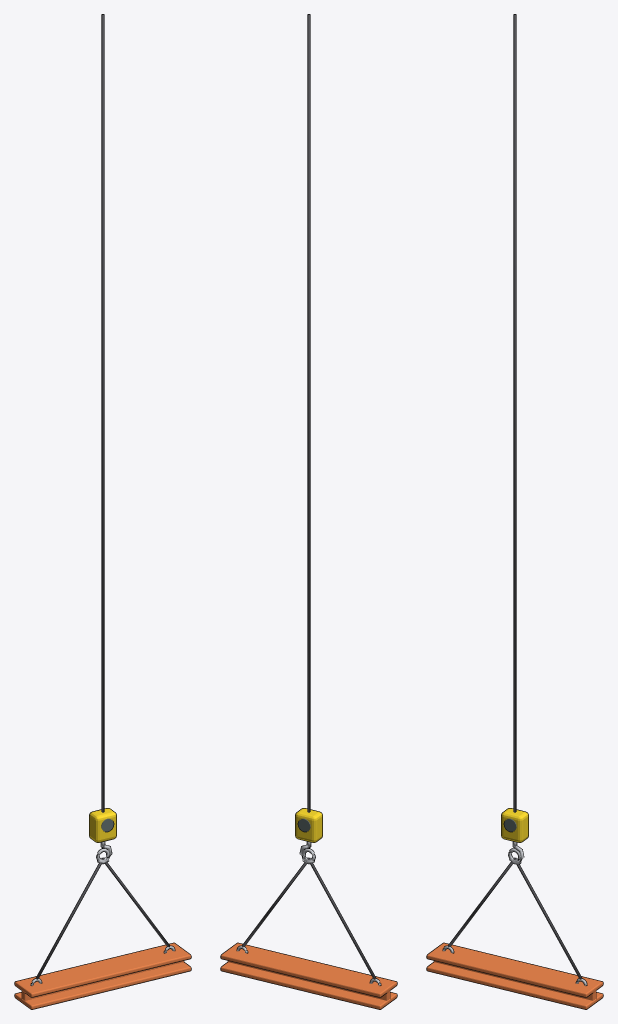
File: Beam_Medium.fbx
3 renders of one model, left to right at view 1: azimuth 30°, elevation 25°; view 2: azimuth 150°, elevation 25°; view 3: azimuth 330°, elevation 25°, orthographic.
Visible parts, largest first — view 1: Beam_Medium; view 2: Beam_Medium; view 3: Beam_Medium.
Boxes of the visible parts, <box> form: Beam_Medium: <box>14,14,191,1009</box>; Beam_Medium: <box>220,14,397,1009</box>; Beam_Medium: <box>426,14,603,1009</box>.
Bounding box in the file's own units: 12.08 × 69.61 × 2.28.
